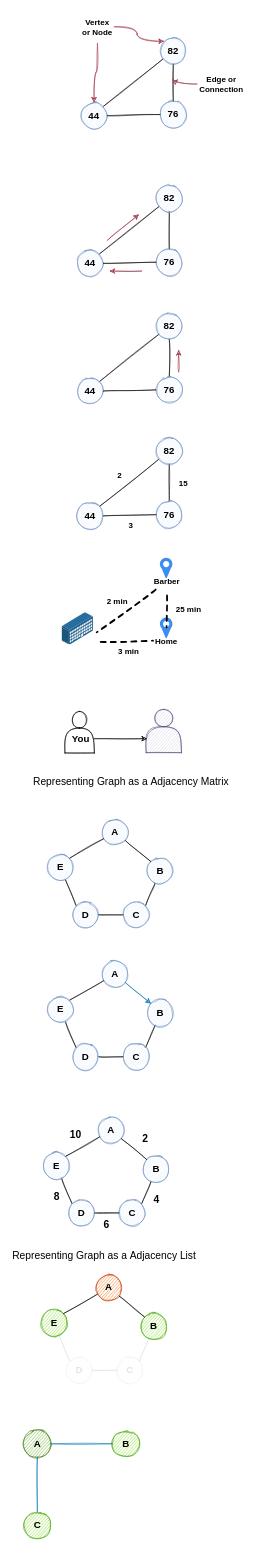
Some shapes in this 255 by 1549 pixel diagram are drawn without their labels. The centre of each missing label's shape, as x and y in pixels:
Celebrity: the point at 164,731
Mall: the point at 76,628
